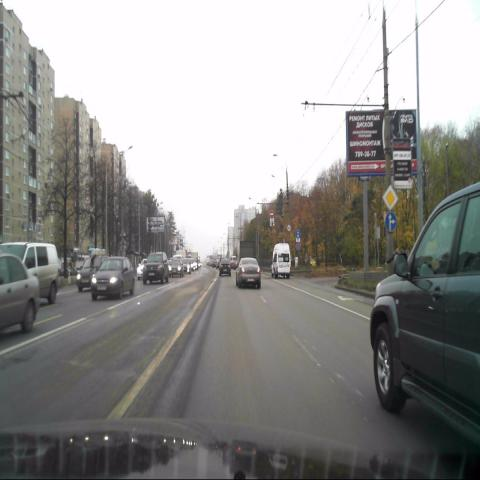2_1: (383, 185, 397, 210)
4_1_4: (386, 212, 396, 231)
